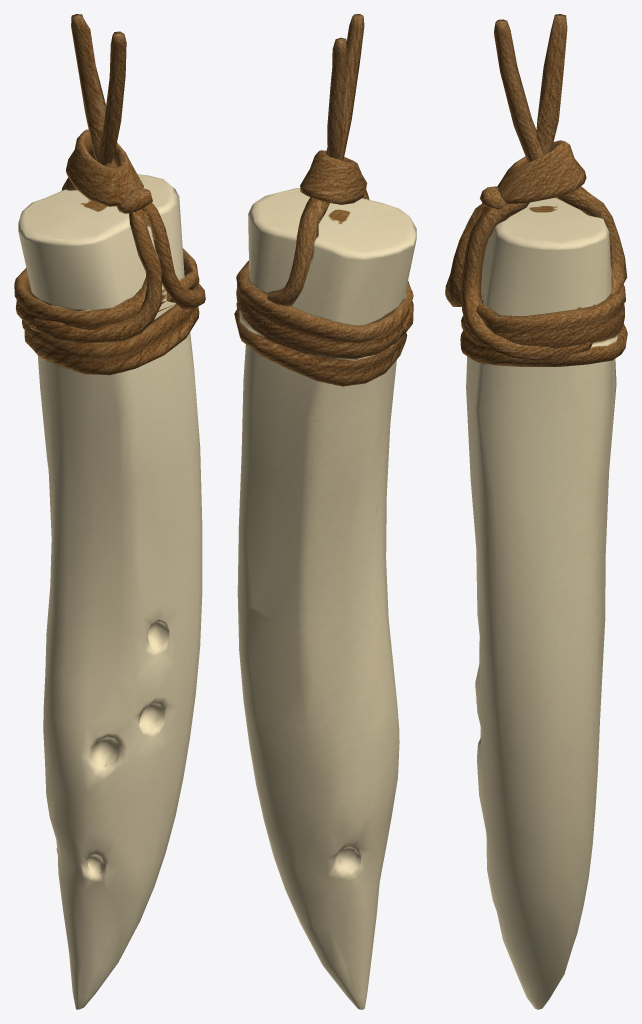
File: bone-charm_refine.glb
3 views of the same model, side by side, from view 1: azimuth 30°, elevation 25°; view 2: azimuth 150°, elevation 25°; view 3: azimuth 270°, elevation 25° (orthographic). The views are drawn at different scales.
Bounding box in the file's own units: 0.1709 × 0.9517 × 0.1577.
1 material, 1 textured.
